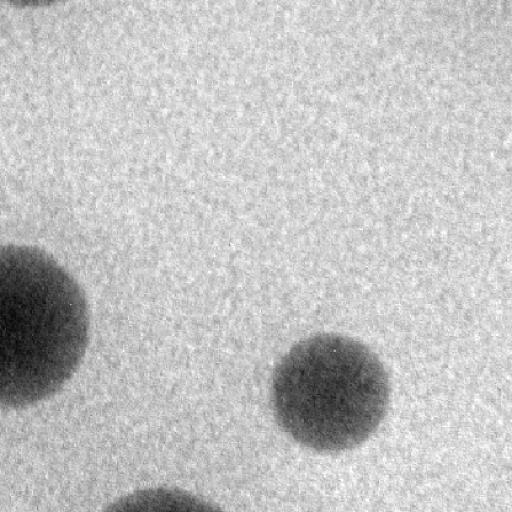Nanoparticles: (269, 330, 391, 450), (2, 243, 91, 405), (94, 486, 235, 512), (8, 0, 64, 8)
